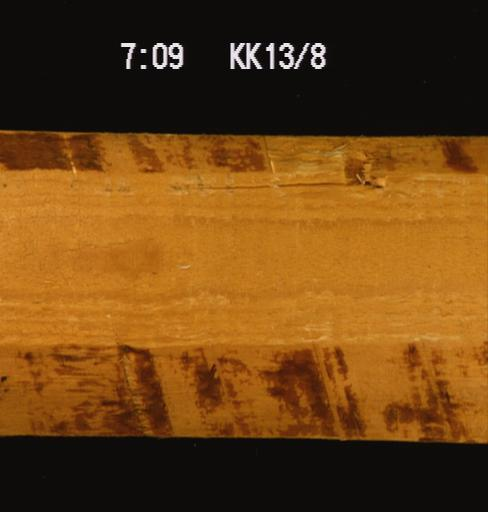split: (182, 170, 383, 193)
wave: (0, 317, 487, 442), (0, 131, 487, 197)
